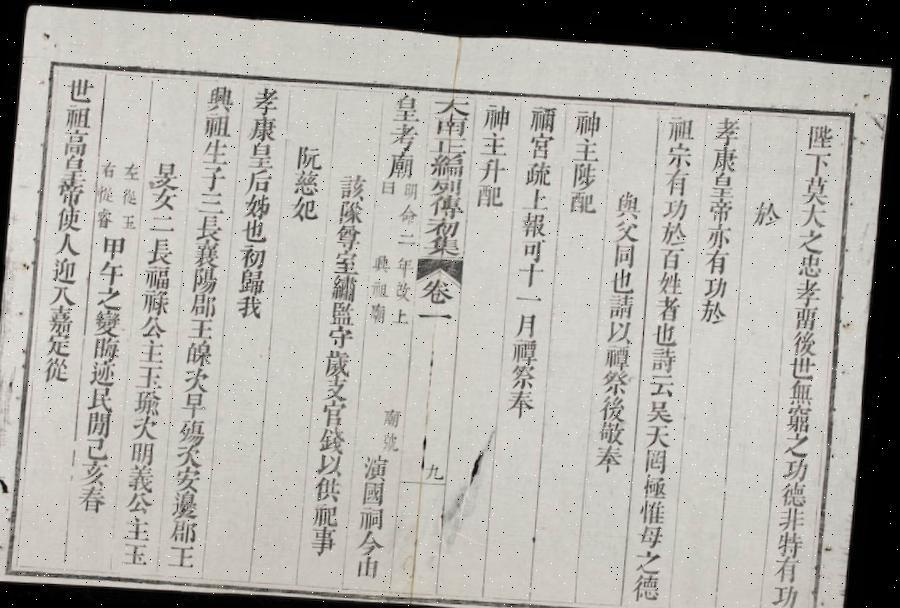c: (421, 273, 459, 303), (150, 156, 184, 189), (250, 82, 284, 114), (388, 118, 422, 150), (596, 438, 631, 469), (54, 174, 90, 204), (712, 109, 745, 141), (391, 88, 424, 120), (527, 100, 560, 132), (508, 383, 542, 414), (481, 97, 515, 128), (572, 103, 606, 134), (664, 107, 698, 138), (429, 149, 468, 176), (804, 115, 839, 145), (80, 483, 115, 513), (63, 72, 98, 102), (635, 566, 670, 596), (752, 191, 785, 222), (173, 486, 207, 516), (246, 138, 280, 168), (312, 522, 346, 552), (786, 397, 820, 427), (62, 100, 96, 130), (801, 168, 835, 198), (60, 126, 94, 156), (186, 336, 220, 366), (194, 210, 228, 240), (338, 168, 372, 198), (432, 109, 472, 134), (48, 303, 80, 334), (614, 184, 646, 215), (205, 80, 238, 110), (130, 461, 163, 491), (794, 270, 827, 300), (523, 156, 556, 186), (364, 449, 398, 478), (428, 190, 467, 215), (294, 138, 326, 168), (326, 345, 358, 375), (51, 254, 83, 284), (147, 234, 179, 264), (662, 162, 694, 192), (95, 307, 128, 336), (134, 386, 168, 414), (288, 192, 322, 220), (782, 473, 816, 501), (316, 472, 350, 500), (170, 540, 204, 568), (778, 522, 812, 550), (171, 515, 206, 542), (141, 287, 176, 314), (247, 113, 282, 140), (332, 270, 363, 300), (710, 139, 742, 168), (182, 388, 214, 417), (386, 148, 418, 177), (54, 204, 87, 232), (199, 136, 232, 164), (133, 412, 166, 440), (651, 340, 684, 368), (179, 415, 212, 443), (704, 216, 737, 244), (91, 357, 124, 385), (320, 423, 353, 451), (601, 389, 634, 417), (603, 363, 636, 391), (125, 513, 158, 541), (124, 538, 157, 566), (776, 548, 809, 576), (477, 153, 510, 181), (659, 214, 692, 242), (144, 262, 177, 290), (136, 361, 170, 388), (648, 366, 682, 393), (784, 425, 818, 452), (175, 463, 209, 490), (57, 153, 91, 180), (427, 230, 465, 254), (426, 212, 467, 234), (527, 128, 557, 158), (570, 157, 600, 187), (514, 305, 545, 334), (198, 162, 230, 190), (202, 110, 234, 138), (292, 166, 324, 194), (335, 220, 367, 248), (44, 355, 76, 383), (512, 333, 544, 361), (244, 166, 276, 194), (792, 322, 824, 350), (604, 338, 636, 366), (708, 166, 740, 194), (520, 207, 552, 235), (789, 372, 821, 400), (336, 196, 368, 224), (191, 264, 223, 292), (242, 190, 274, 218), (184, 364, 216, 392), (98, 257, 130, 285), (193, 238, 225, 266), (608, 288, 640, 316), (664, 136, 696, 164), (797, 221, 830, 248), (359, 526, 392, 553), (475, 179, 508, 206), (780, 499, 814, 525), (774, 576, 808, 602), (656, 288, 686, 317), (703, 242, 734, 270), (322, 396, 353, 424), (568, 185, 600, 212), (510, 358, 542, 385), (140, 336, 172, 363), (360, 502, 392, 529), (84, 457, 116, 484), (797, 245, 829, 272), (238, 265, 270, 292), (239, 240, 271, 267), (479, 127, 511, 154), (571, 132, 603, 159), (236, 291, 269, 317), (646, 417, 679, 443), (799, 196, 832, 222), (648, 392, 681, 418), (641, 492, 674, 518), (357, 551, 390, 577), (637, 542, 670, 568), (96, 283, 129, 309), (177, 441, 211, 466), (88, 408, 118, 436), (90, 383, 120, 411), (644, 466, 674, 494), (417, 303, 459, 323), (429, 130, 471, 150), (100, 231, 131, 258), (362, 476, 393, 503), (661, 190, 692, 217), (333, 246, 365, 272), (150, 186, 182, 212), (94, 333, 126, 359), (652, 315, 684, 341), (606, 314, 638, 340), (142, 312, 174, 338), (53, 230, 85, 256), (314, 498, 346, 524), (700, 292, 732, 318), (600, 414, 632, 440), (792, 298, 824, 324), (640, 516, 672, 542), (790, 348, 822, 374), (784, 449, 816, 475), (518, 257, 550, 283), (804, 143, 836, 169), (656, 264, 688, 290), (190, 290, 222, 316), (49, 281, 82, 306), (128, 489, 161, 514), (432, 92, 473, 112), (196, 188, 230, 212), (610, 262, 640, 289), (645, 441, 675, 468), (658, 240, 689, 266), (132, 438, 163, 464), (324, 373, 355, 399), (330, 298, 361, 324), (241, 215, 272, 241), (188, 314, 220, 339), (46, 331, 78, 356), (328, 321, 360, 346), (148, 210, 181, 234), (707, 190, 737, 216), (522, 183, 553, 208), (320, 449, 351, 474), (86, 435, 117, 460), (613, 214, 644, 239), (612, 237, 640, 264), (428, 173, 467, 192), (520, 234, 549, 259), (703, 268, 733, 292), (381, 426, 406, 450), (398, 199, 422, 223), (371, 274, 395, 298), (96, 180, 120, 204), (516, 286, 548, 304), (96, 204, 119, 229), (373, 248, 396, 272), (384, 402, 407, 426), (370, 297, 392, 322), (397, 250, 419, 275), (395, 275, 416, 300), (123, 157, 144, 181), (428, 457, 450, 479), (397, 226, 421, 246), (100, 156, 120, 179), (393, 303, 414, 324), (122, 183, 142, 205), (120, 208, 140, 230), (402, 178, 422, 198), (382, 176, 400, 194)
